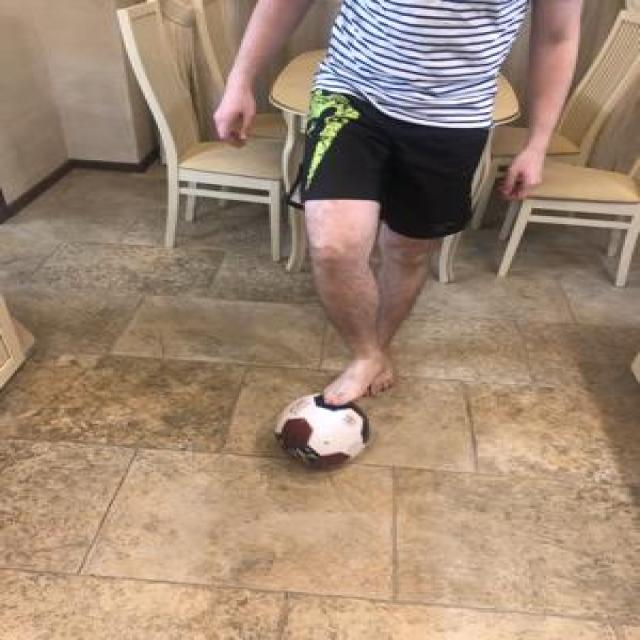Soccer Ball: (269, 389, 369, 469)
